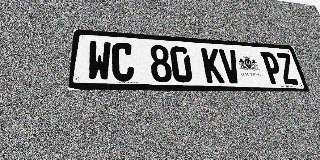0: (169, 46, 193, 83)
8: (149, 44, 173, 82)
C: (112, 42, 134, 82)
K: (201, 48, 225, 83)
P: (260, 52, 284, 84)
V: (218, 49, 243, 84)
W: (86, 41, 111, 81)
Z: (275, 53, 300, 85)
